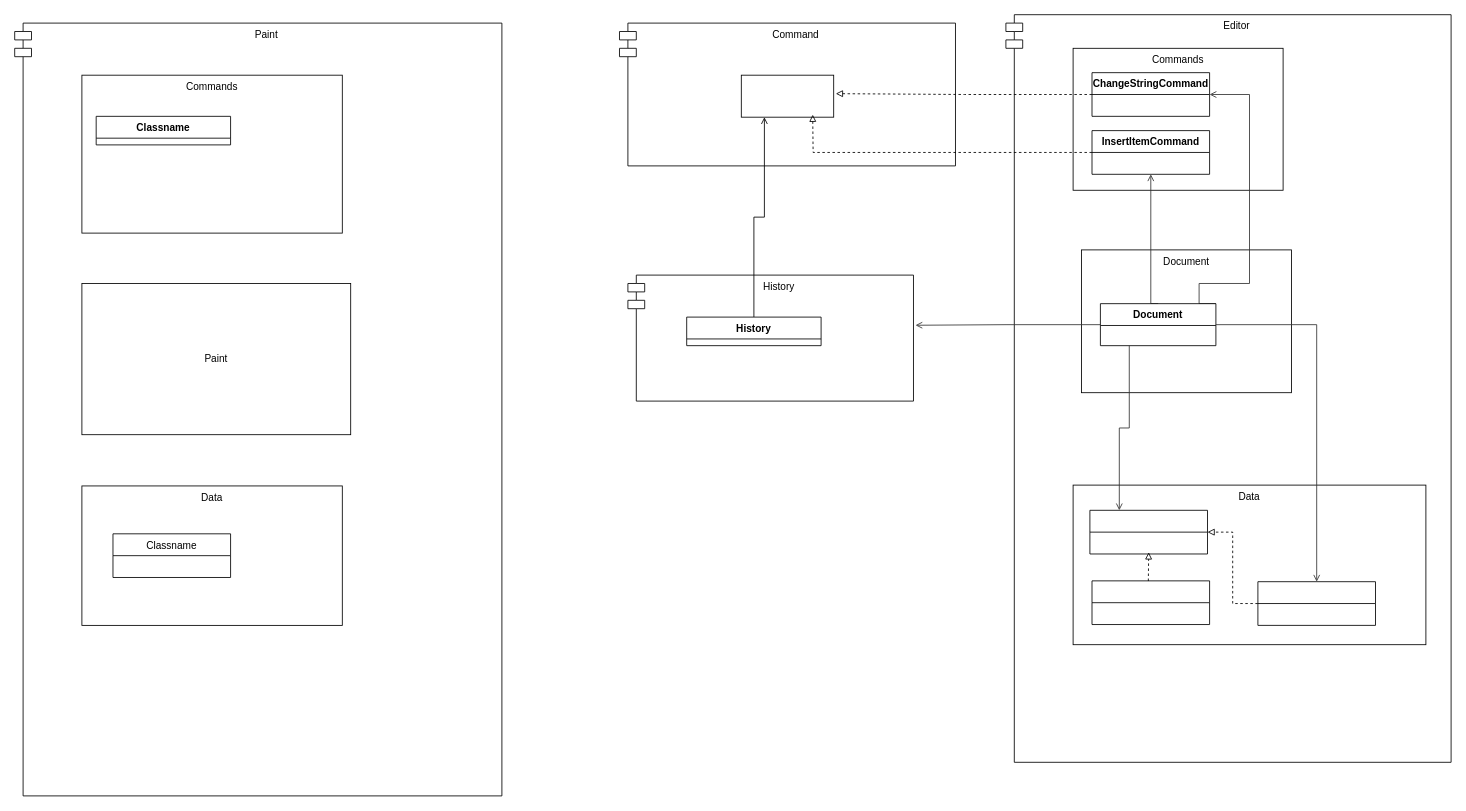
The diagram is 1466 pixels wide and 811 high, and some of its shapes have lost their labels. The centre of each missing label's shape, as x and y in pixels:
"DocumentItem" belongs at [1148,531].
"Image" belongs at [1316,603].
"Paragraph" belongs at [1150,602].
"«interface» CommandInterface" belongs at [787,95].
